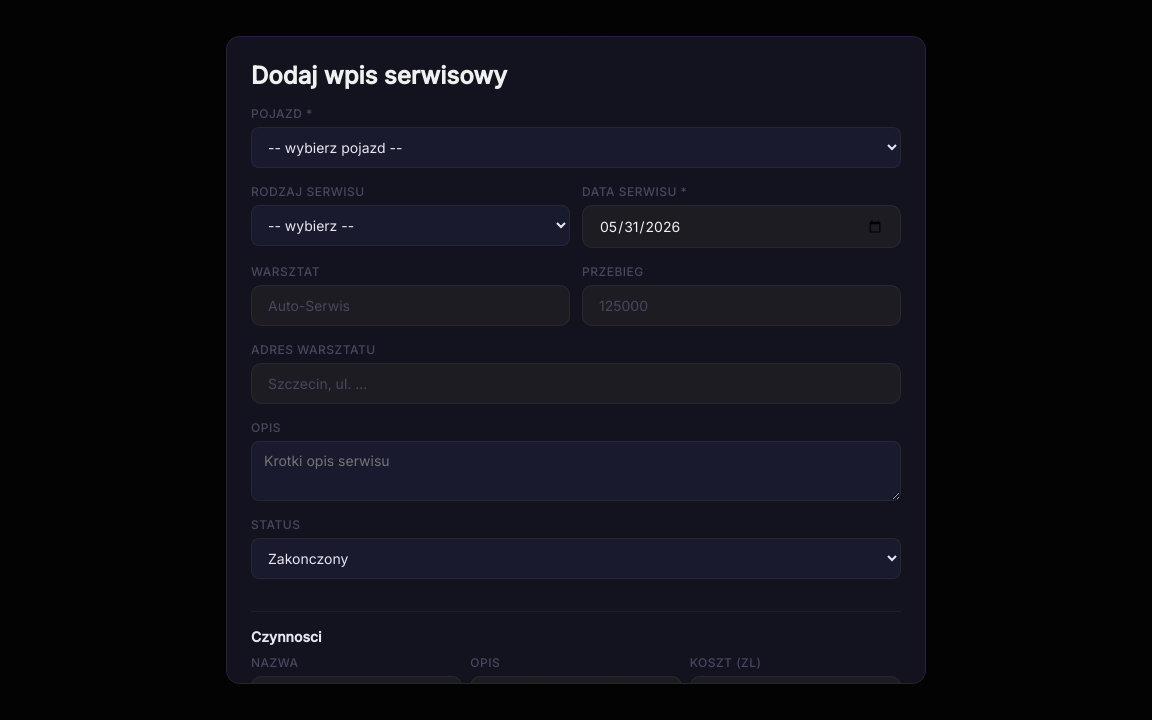
ServiceForm › pokazuje blad gdy zapis serwisu sie nie powiedzie
The width and height of the screenshot is (1152, 720).
Select "Toyota Corolla (WA12345)" in the dropdown below "Pojazd *" at (576,148), box [251, 127, 901, 168]
(page scrolled)
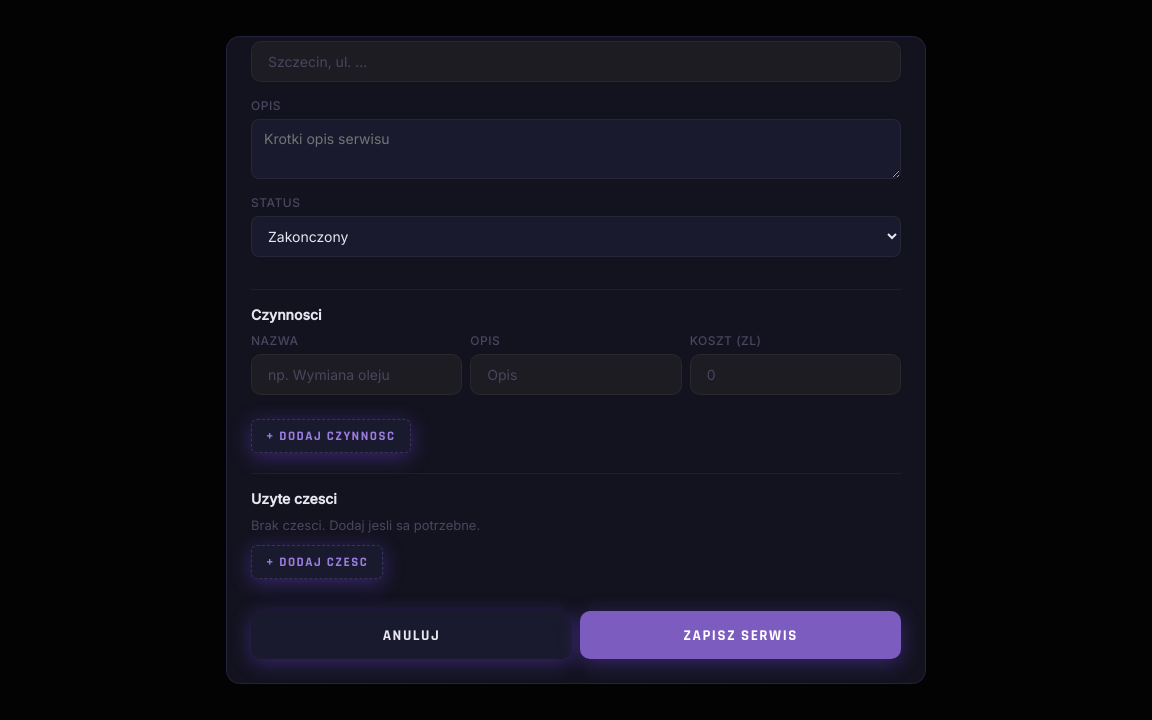
Click the button "Zapisz serwis" at (740,635), box [580, 611, 901, 659]
(page scrolled)
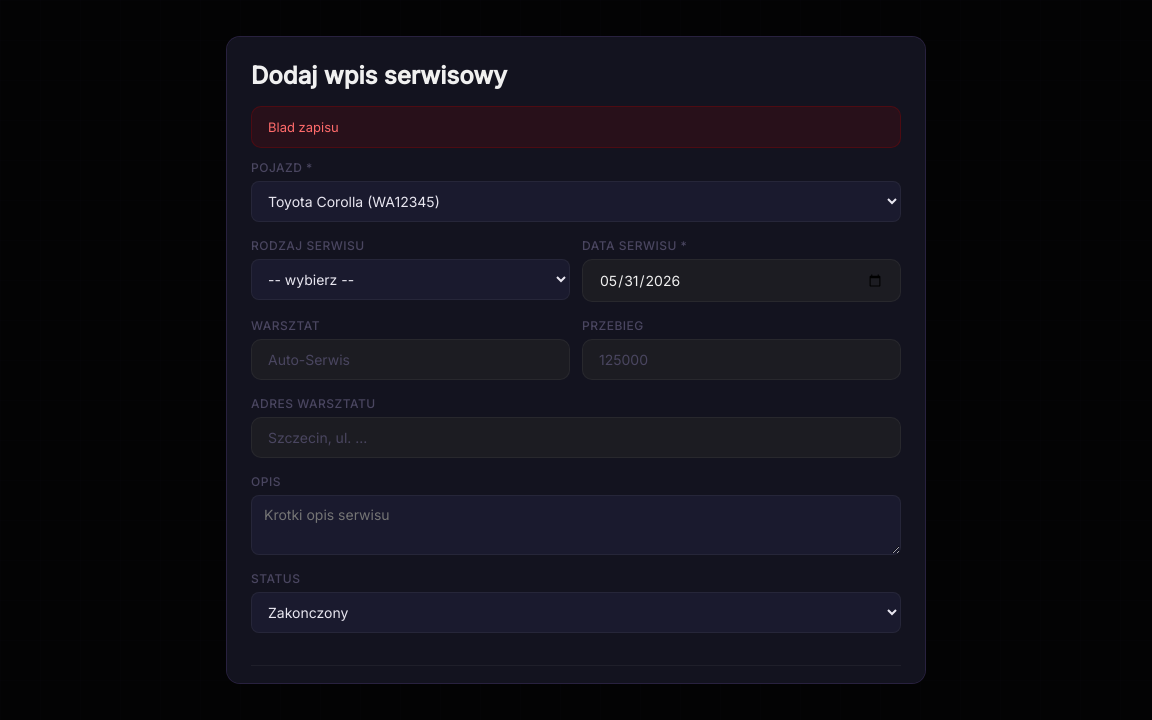
Expected: the text "Blad zapisu" is shown, [251, 106, 901, 148]
